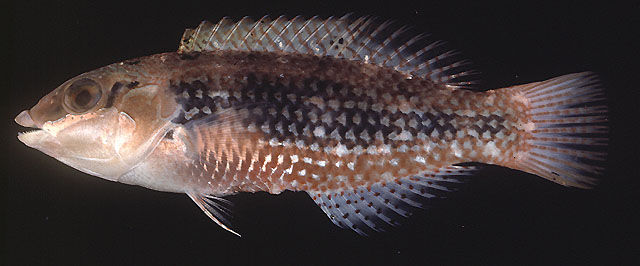fish: (14, 12, 609, 239)
